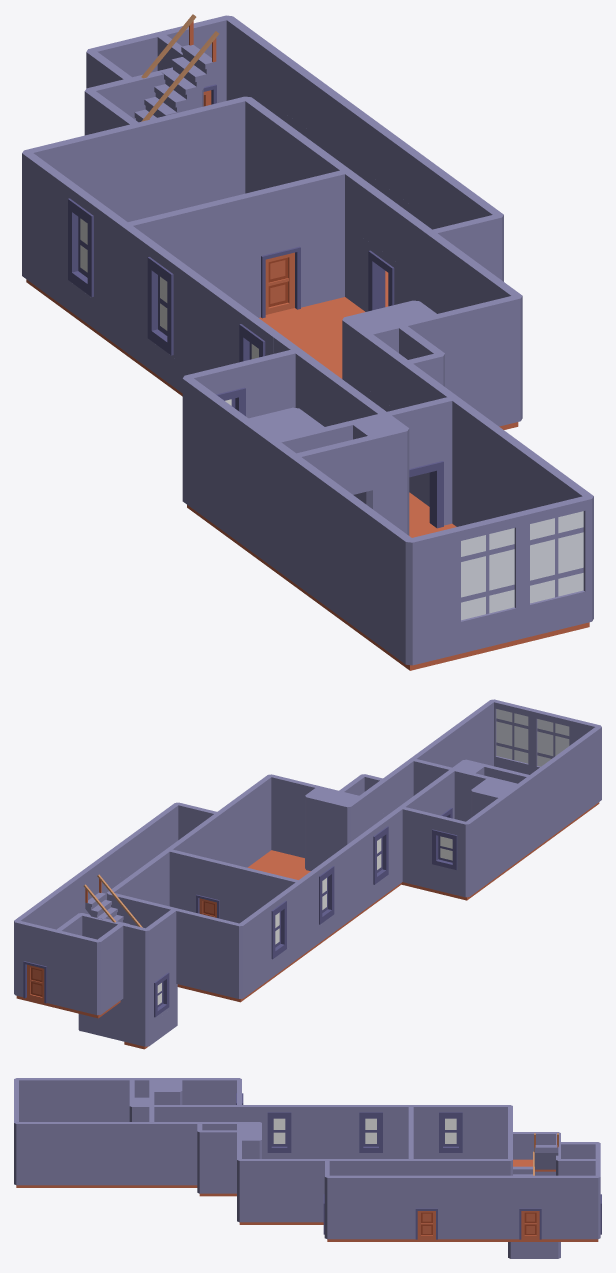
The picture shows the model from 3 angles, top to bottom: view 1: azimuth 30°, elevation 25°; view 2: azimuth 150°, elevation 25°; view 3: azimuth 270°, elevation 25°; orthographic projection. The views are drawn at different scales.
Visible parts, largest first — view 1: wall (×54), wall_half (×18), wall_window (×2), window_closed (×4), porch_floorCenter (×2), doorway_doorSolid, doorway (×2), stairs_stoneRailing; view 2: wall (×47), wall_half (×11), window_closed (×5), wall_window (×2), doorway_doorSolid (×2), porch_floorCenter (×2), stairs_stoneRailing; view 3: wall (×34), wall_half (×15), window_closed (×3), doorway_doorSolid (×2), porch_floorCenter (×3), stairs_stoneRailing.
Boxes of the visible parts, left/top/right/bottom form: wall (×54): left=22, top=15, right=593, bottom=665; wall_half (×18): left=101, top=39, right=473, bottom=665; wall_window (×2): left=449, top=495, right=593, bottom=633; window_closed (×4): left=62, top=179, right=281, bottom=418; porch_floorCenter (×2): left=26, top=279, right=589, bottom=670; doorway_doorSolid: left=246, top=232, right=314, bottom=318; doorway (×2): left=362, top=238, right=452, bottom=528; stairs_stoneRailing: left=134, top=14, right=219, bottom=122; wall (×47): left=14, top=700, right=601, bottom=1046; wall_half (×11): left=154, top=797, right=420, bottom=969; window_closed (×5): left=145, top=815, right=465, bottom=1025; wall_window (×2): left=490, top=699, right=575, bottom=771; doorway_doorSolid (×2): left=15, top=886, right=228, bottom=1004; porch_floorCenter (×2): left=177, top=802, right=599, bottom=1002; stairs_stoneRailing: left=83, top=874, right=142, bottom=927; wall (×34): left=14, top=1078, right=600, bottom=1258; wall_half (×15): left=129, top=1090, right=566, bottom=1239; window_closed (×3): left=257, top=1105, right=472, bottom=1157; doorway_doorSolid (×2): left=407, top=1203, right=546, bottom=1239; porch_floorCenter (×3): left=16, top=1185, right=598, bottom=1241; stairs_stoneRailing: left=534, top=1133, right=558, bottom=1169.
Bounding box in the file's own units: 5.96 × 3.5 × 14.76.
